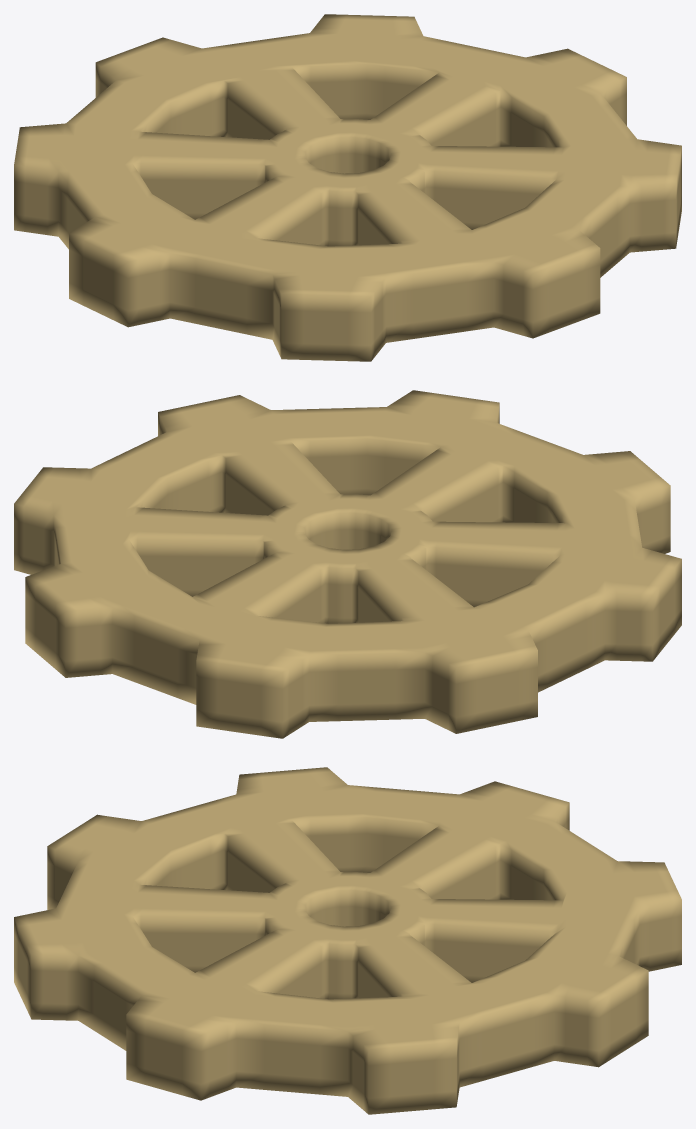
Rendered from gearF.fbx.
3 renders of one model, top to bottom at view 1: azimuth 30°, elevation 25°; view 2: azimuth 150°, elevation 25°; view 3: azimuth 270°, elevation 25°, orthographic.
Parts seen in each view (by area): view 1: gearF.000; view 2: gearF.000; view 3: gearF.000.
Part boxes in pixels (bbox=[...]): gearF.000: bbox=[14, 14, 681, 361]; gearF.000: bbox=[14, 390, 681, 738]; gearF.000: bbox=[14, 767, 681, 1114].
Bounding box in the file's own units: 1.85 × 0.2 × 1.85.
